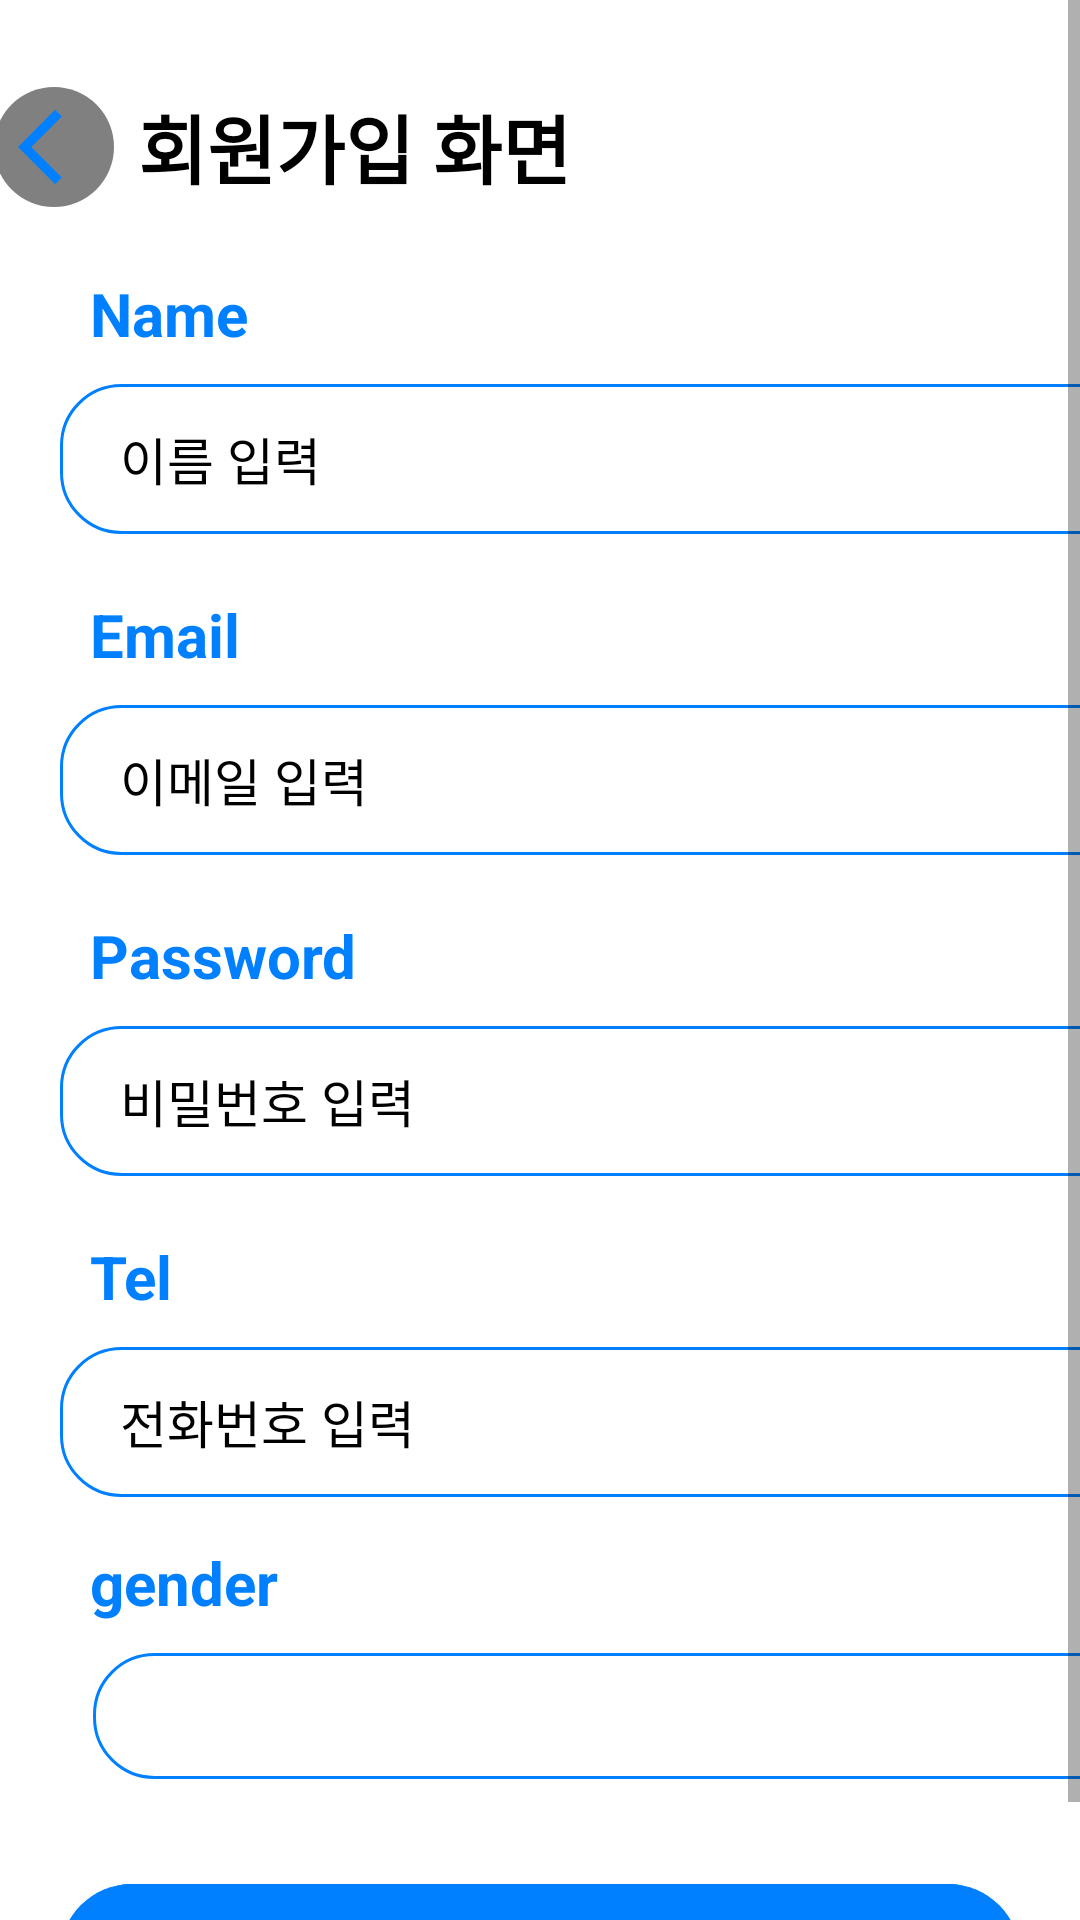

Icon click points for this 1080w x 1920h phone screenshot, format [x,y]:
arrow back: [40,147]
